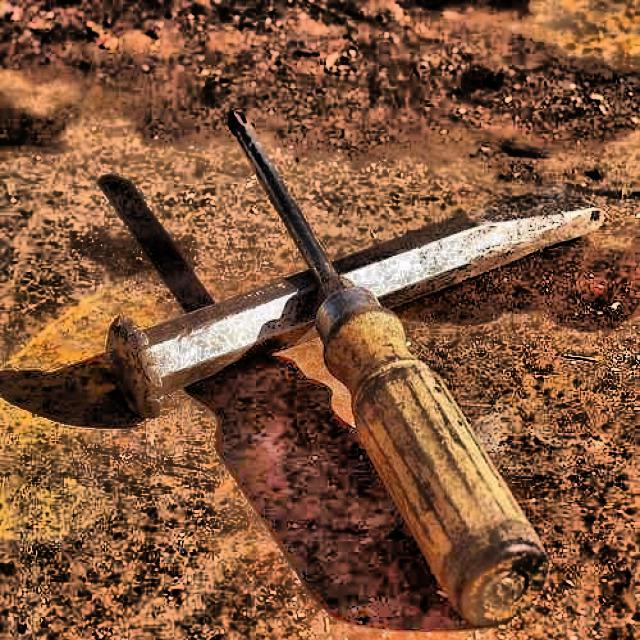screwdriver: (228, 112, 550, 626)
